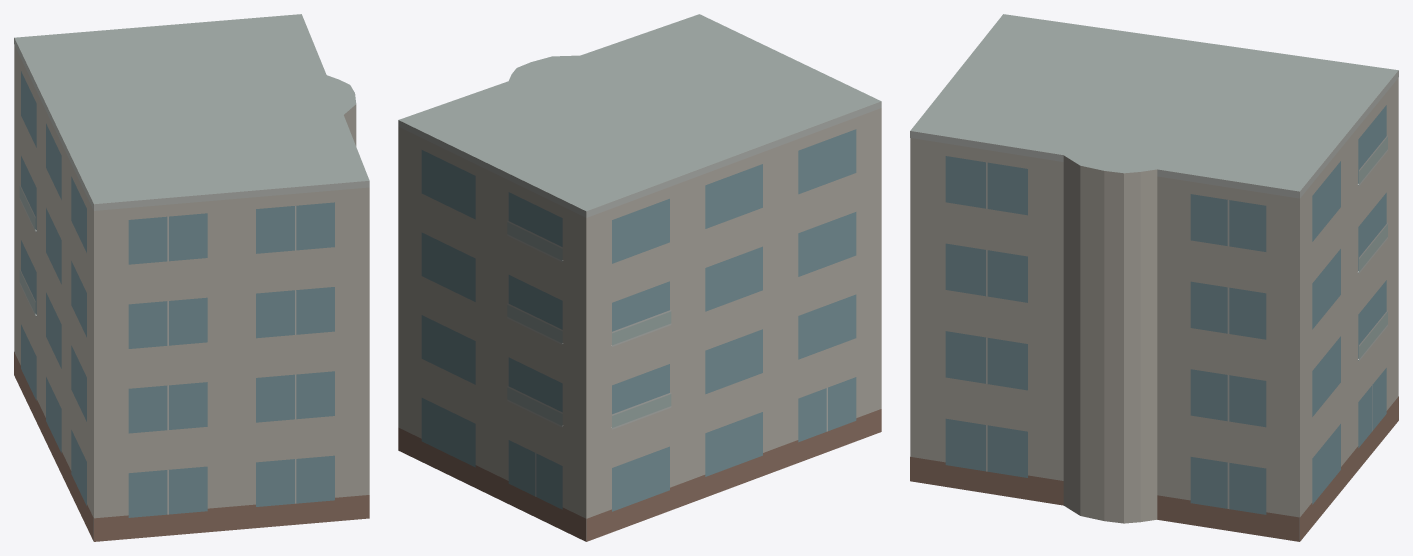
File: survey-upis-32968546.glb
The picture shows the model from 3 angles, left to right: view 1: azimuth 30°, elevation 25°; view 2: azimuth 150°, elevation 25°; view 3: azimuth 270°, elevation 25°; orthographic projection. The views are drawn at different scales.
Visible parts, largest first — view 1: survey-upis-32968546.tmp; view 2: survey-upis-32968546.tmp; view 3: survey-upis-32968546.tmp.
Boxes of the visible parts, x1,y1,x2,y2 form: survey-upis-32968546.tmp: [14, 14, 369, 541]; survey-upis-32968546.tmp: [398, 14, 881, 541]; survey-upis-32968546.tmp: [910, 14, 1398, 541].
Size of the model in its own units: 13.27 by 12.2 by 15.43.
